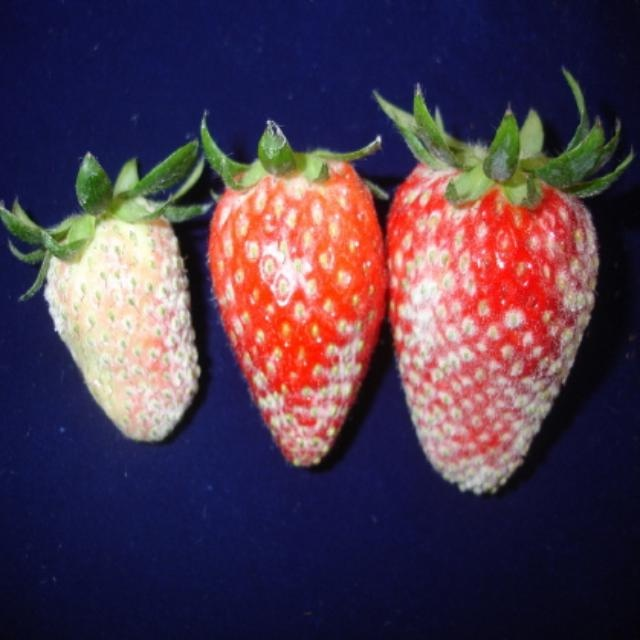Powdery Mildew Fruit: (383, 149, 600, 495), (206, 151, 392, 467), (39, 192, 200, 442)
